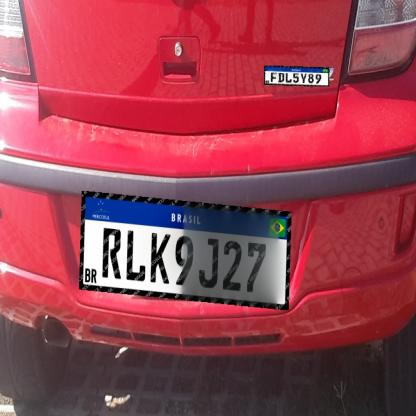PlacaM: (79, 191, 292, 310), (264, 66, 329, 86)
